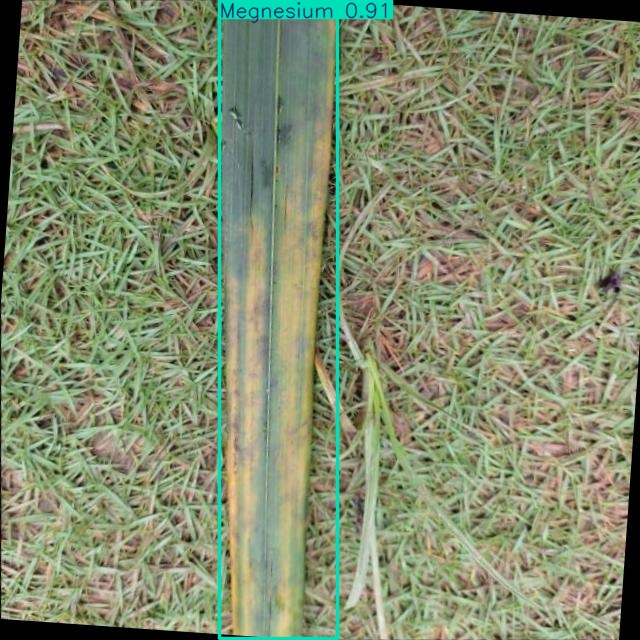Megnesium: (220, 0, 337, 638)
